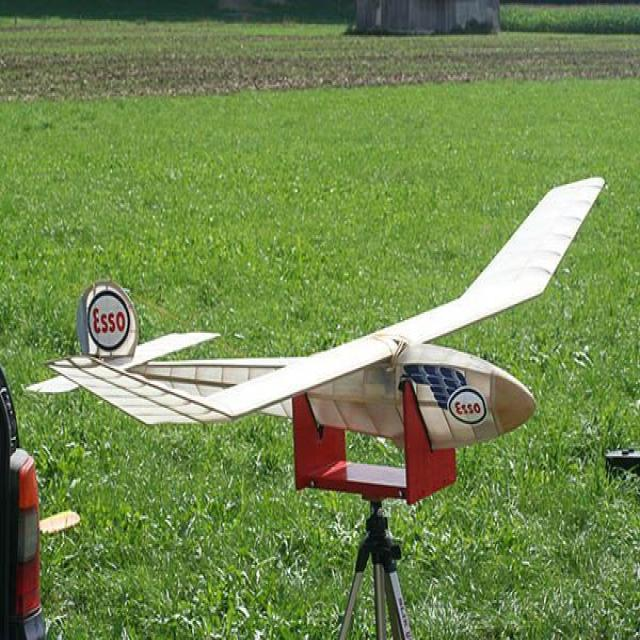iha: (29, 176, 608, 456)
